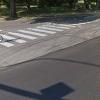Crosswalk: (4, 20, 86, 52)
